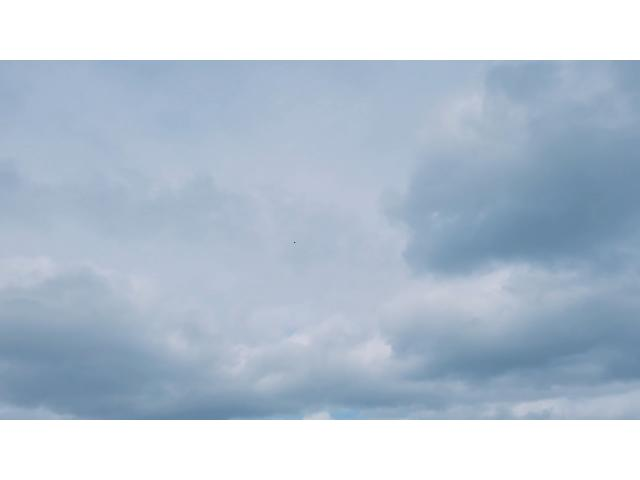Anti-Drone: (286, 238, 302, 248)
